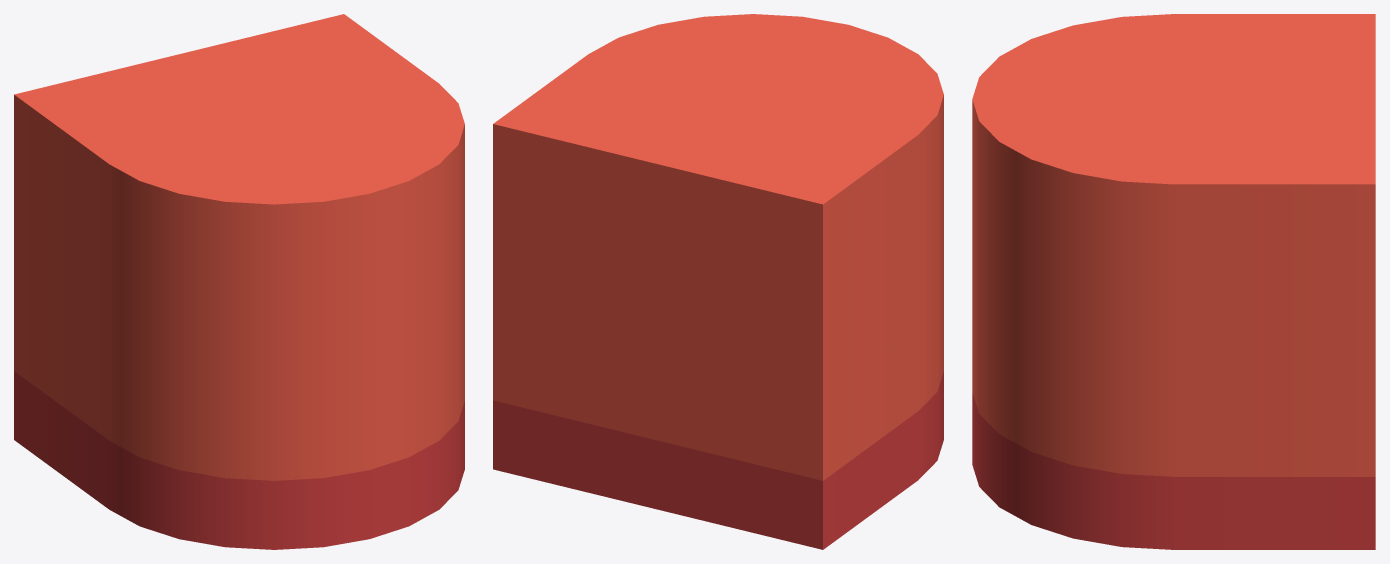
Rendered from block9.obj.
3 views of the same model, side by side, from view 1: azimuth 30°, elevation 25°; view 2: azimuth 150°, elevation 25°; view 3: azimuth 270°, elevation 25° (orthographic). The views are drawn at different scales.
Visible parts, largest first — view 1: mergedBlocks; view 2: mergedBlocks; view 3: mergedBlocks.
Part boxes in pixels (bbox=[...]): mergedBlocks: bbox=[14, 14, 464, 549]; mergedBlocks: bbox=[493, 14, 943, 549]; mergedBlocks: bbox=[972, 14, 1375, 549].
Bounding box in the file's own units: 1 × 1 × 1.
